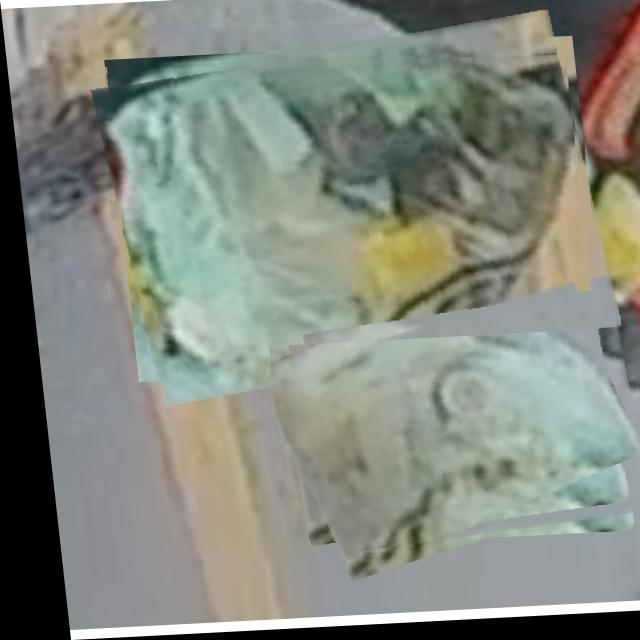general_trashbag: (108, 61, 569, 379), (263, 337, 631, 556)
